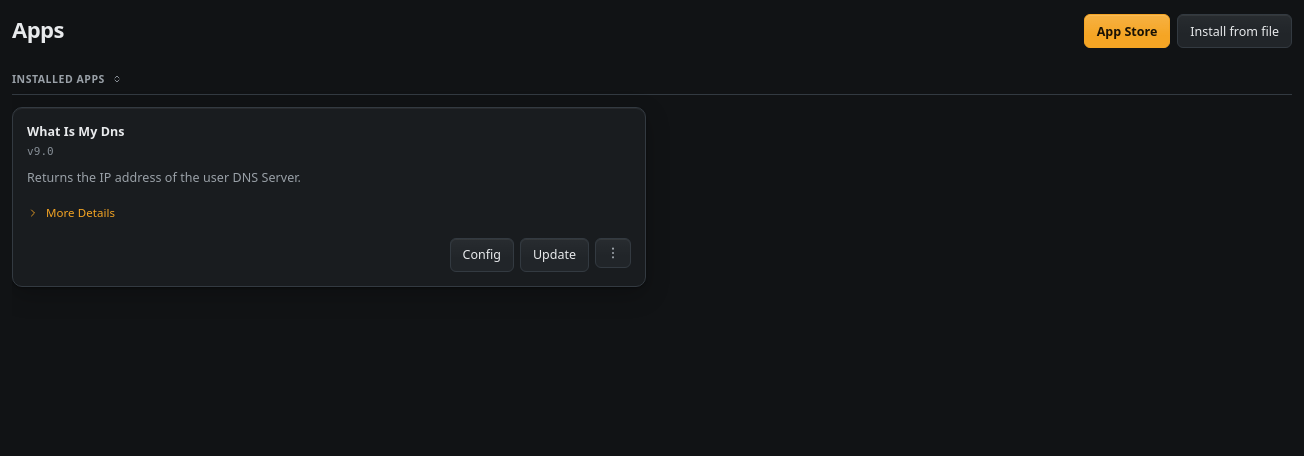
it: Apps: installed list › the detail shows the class, its labels and the data template
Check: the list item "What Is My Dns" is shown, box [12,107,646,287]
Click the heading "More Details" at (71, 212), box [27,205,115,220]
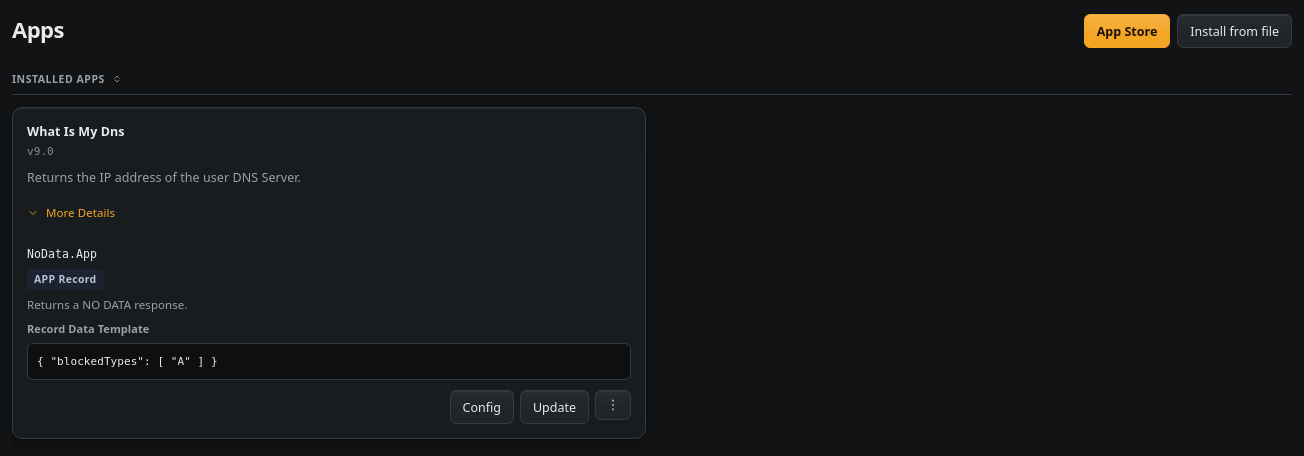
Check: the text "NoData.App" is shown, box [27,247,97,261]
Check: the text "APP Record" is shown, box [27,269,104,290]
Check: the text "{ \"blockedTypes\": [ \"A\" ] }" is shown, box [27,343,631,380]
